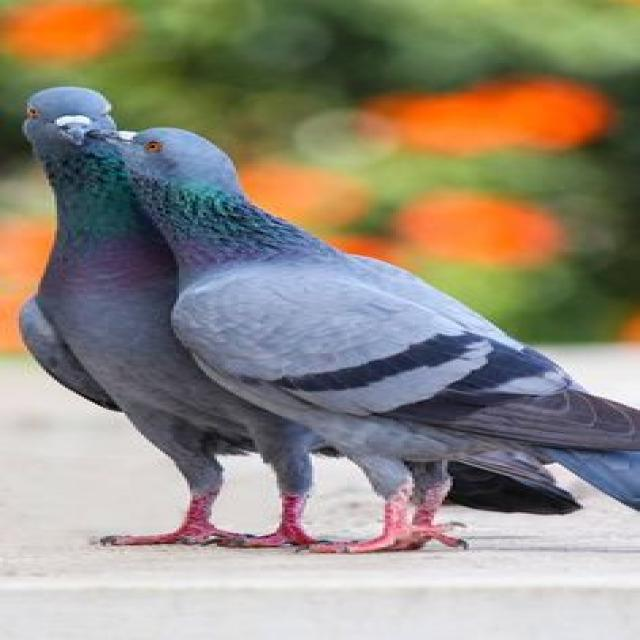Herbivorous: (122, 128, 640, 547), (19, 87, 279, 542)
